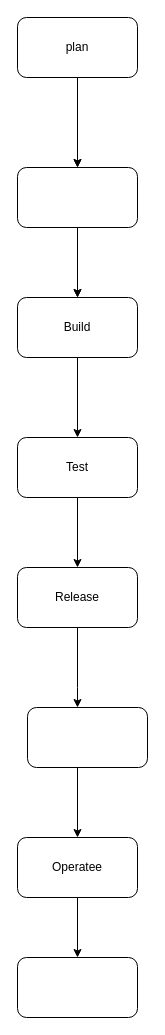
Image size: 165x1035. Some labels were removed from this diagram. Here are the shapes that lost their labels. From the top down, the centre of each, then its label:
At (77,197): "Develop".
At (87,737): "Deploy".
At (77,987): "Monitor".
